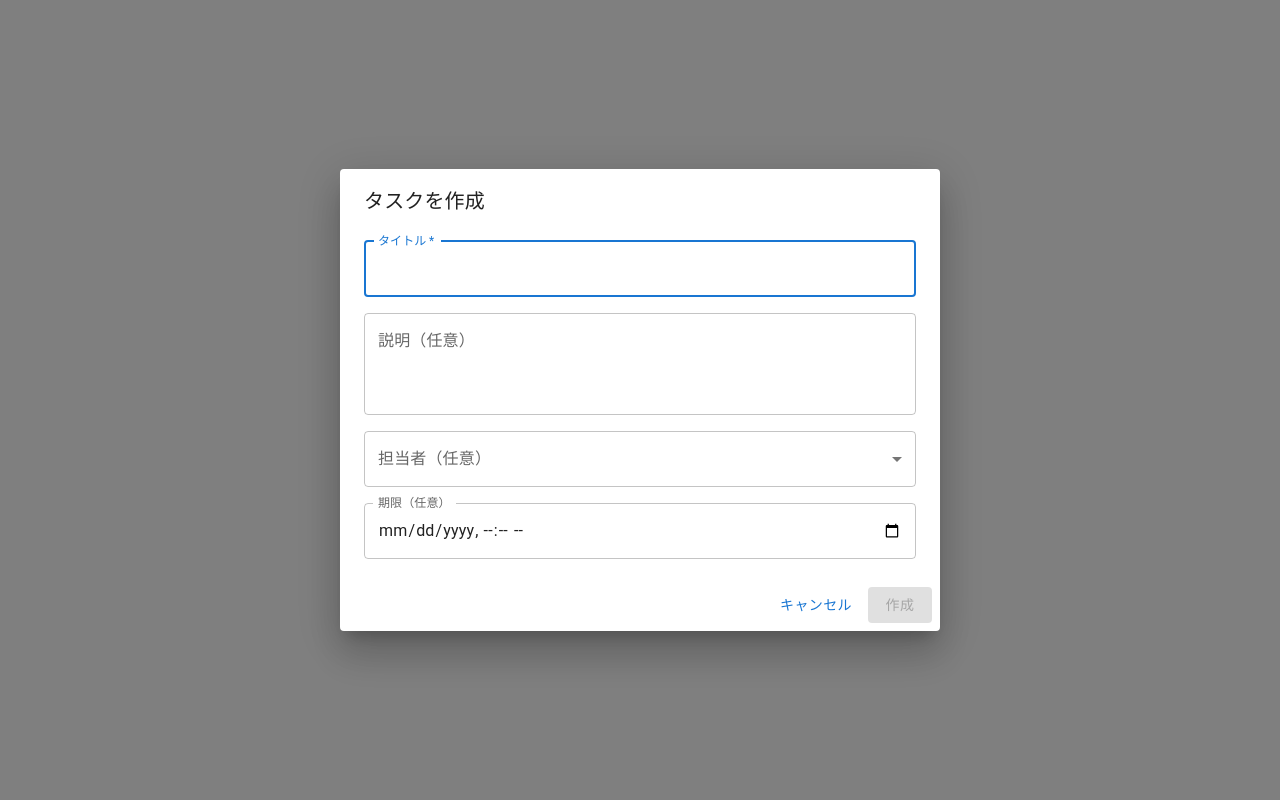
Test: CreateTaskDialog › タスク作成送信 › API 送信失敗時にエラーメッセージが表示される
Type "タスク" into the field labelled "タイトル *" at (640, 269), box [364, 241, 916, 297]
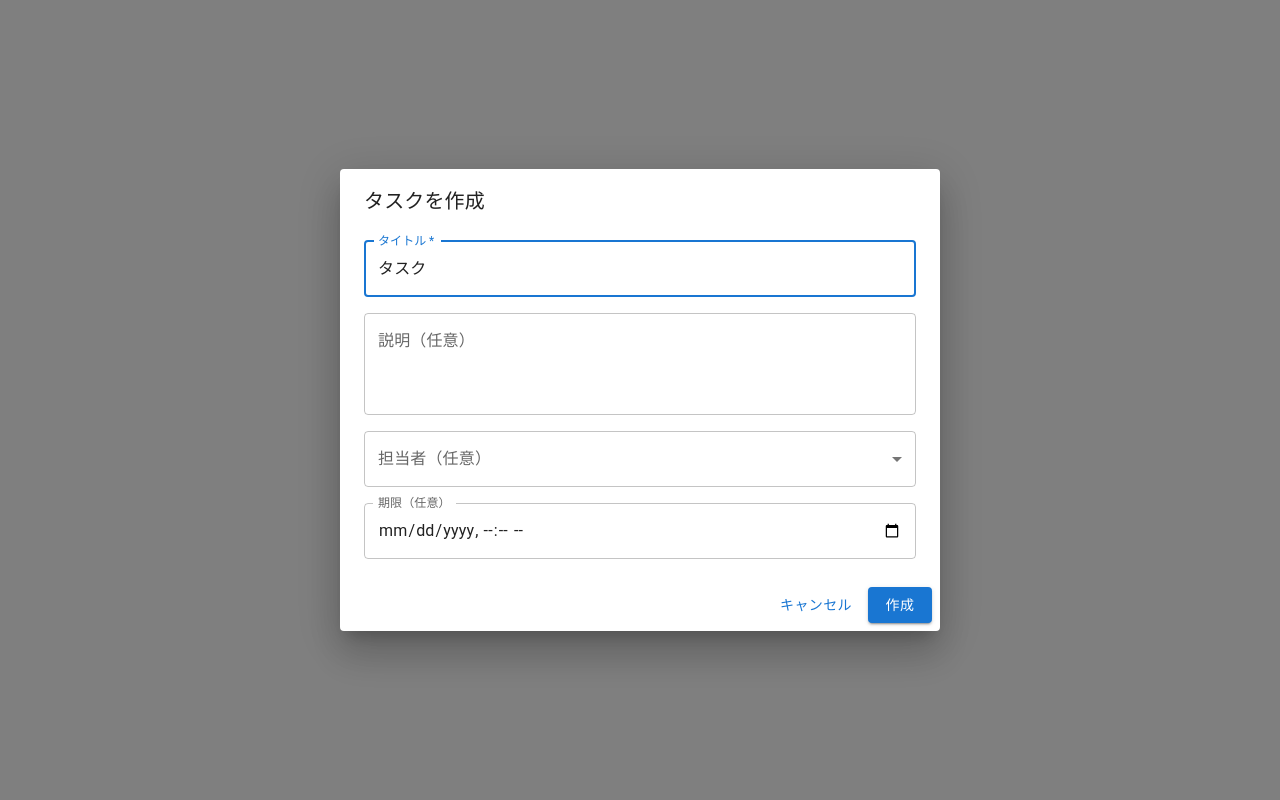
Click the button "作成" at (900, 605), box [868, 587, 932, 623]
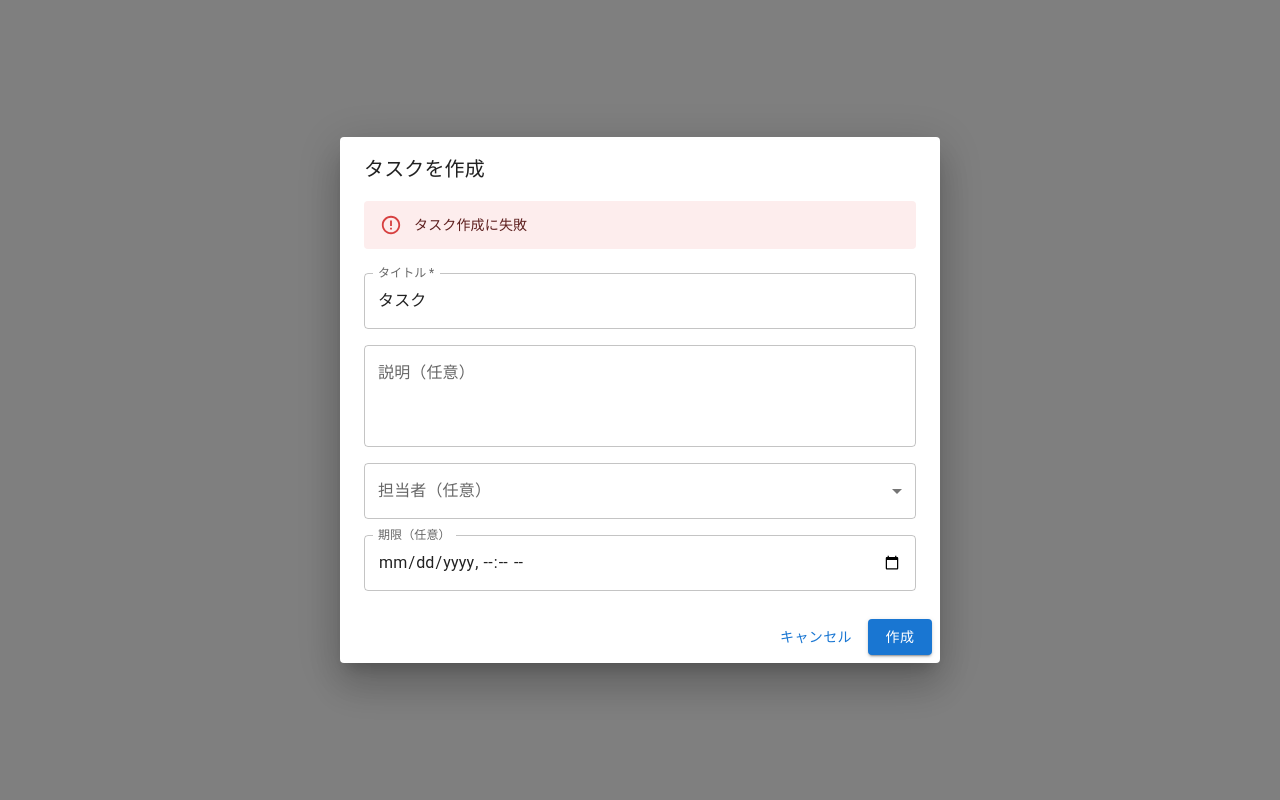
expect the text "タスク作成に失敗" is shown: met, box [414, 217, 527, 233]
